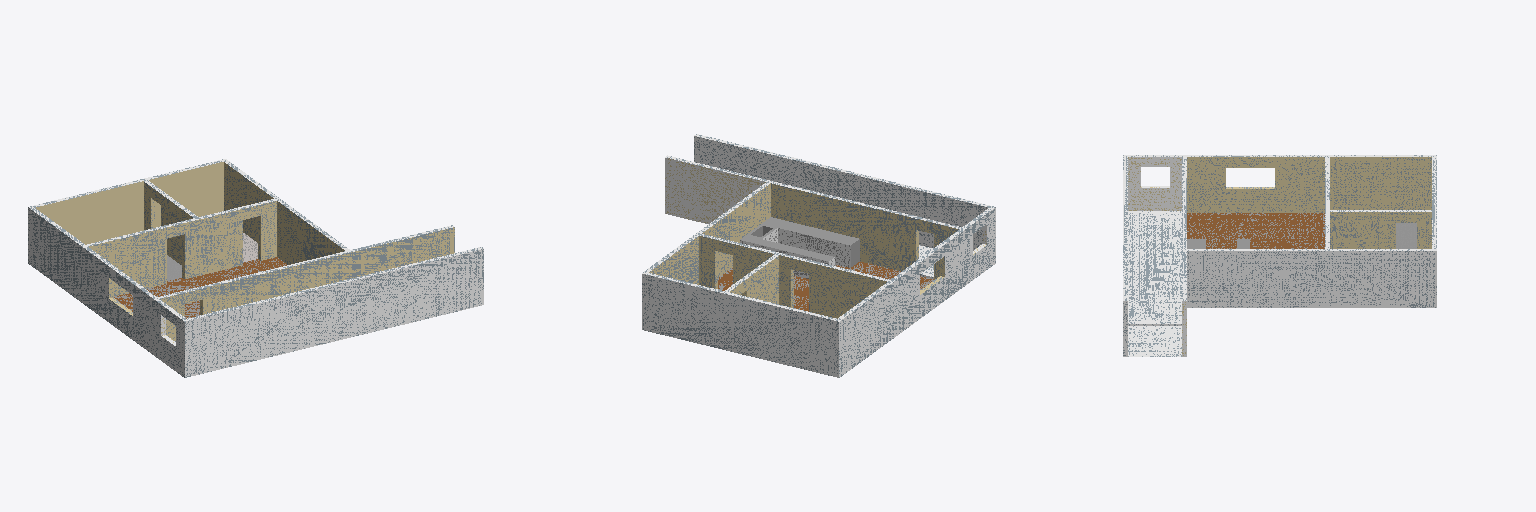
Rendered from House_Model.obj.
3 renders of one model, left to right at view 1: azimuth 30°, elevation 25°; view 2: azimuth 150°, elevation 25°; view 3: azimuth 270°, elevation 25°, orthographic.
Visible parts, largest first — view 1: Mesh1 Model; view 2: Mesh1 Model; view 3: Mesh1 Model.
Boxes of the visible parts, box(x1,y1,x2,y2) form: Mesh1 Model: box(28, 159, 483, 377); Mesh1 Model: box(642, 134, 995, 377); Mesh1 Model: box(1123, 155, 1436, 356).
Bounding box in the file's own units: 667 × 120 × 605.